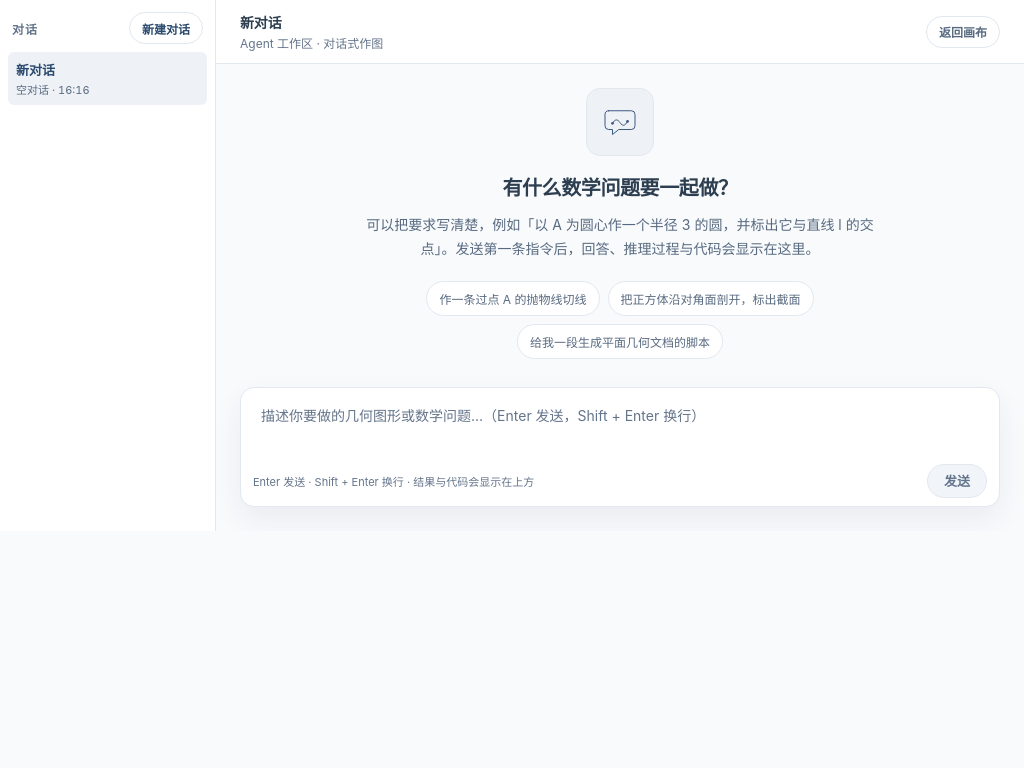
Test: the workspace never invents a reply › hands the prompt and the prompt message id to the injected runner
Type "建一个立方体" into the text box named "对话输入" at (620, 428), box [253,400,987,456]
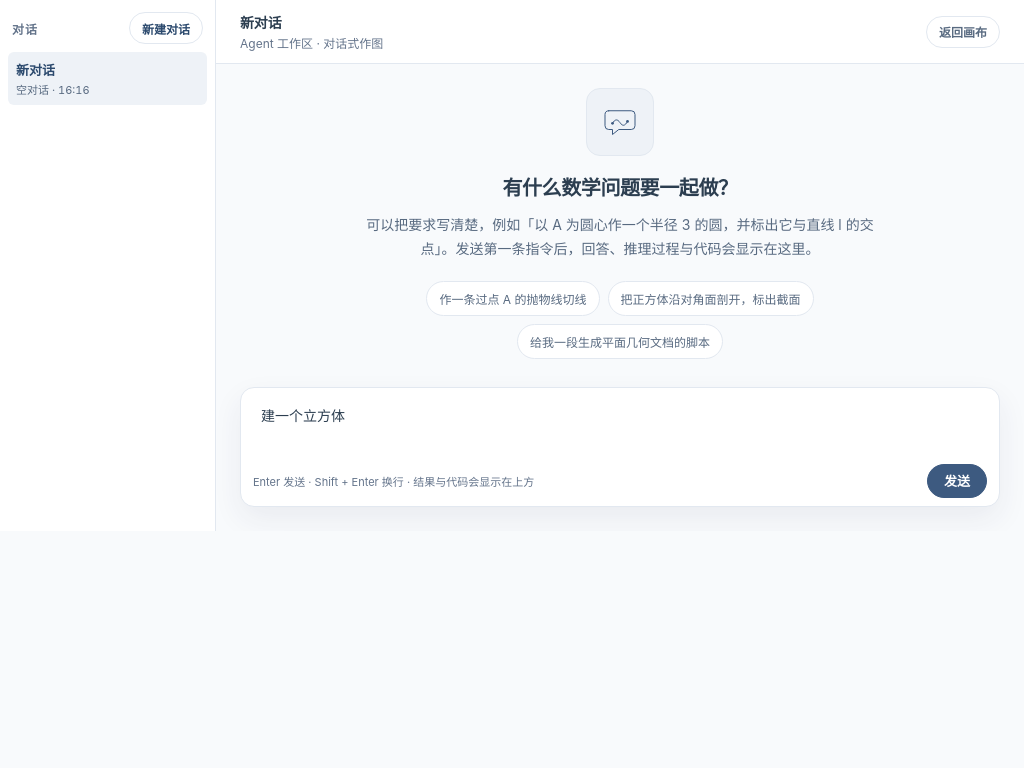
Click the button "发送" at (957, 481), box [927,464,987,498]
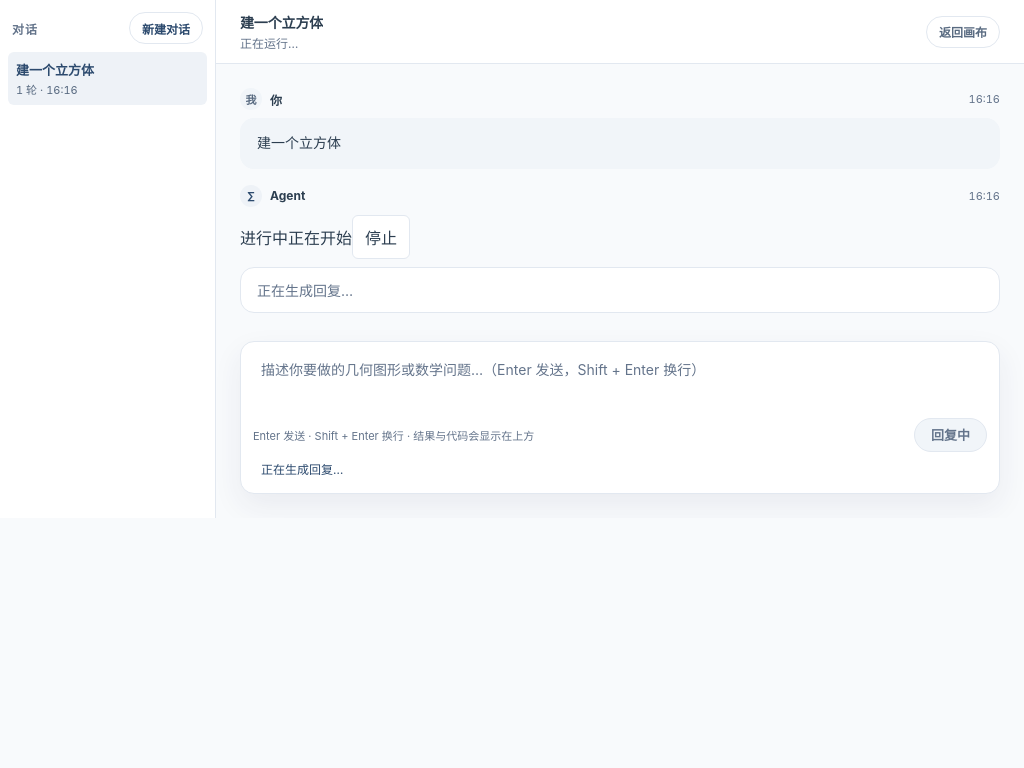
Expected: the 1st text "建一个立方体" is shown, [16,62,94,78]
